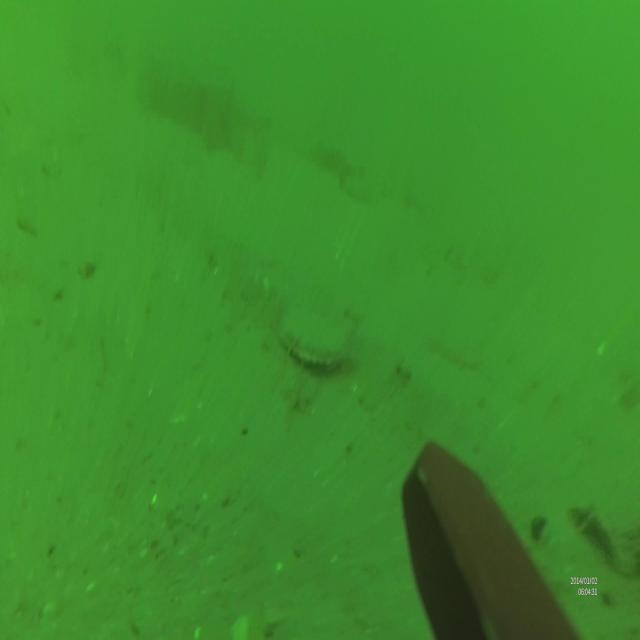scallop: (278, 311, 348, 371)
